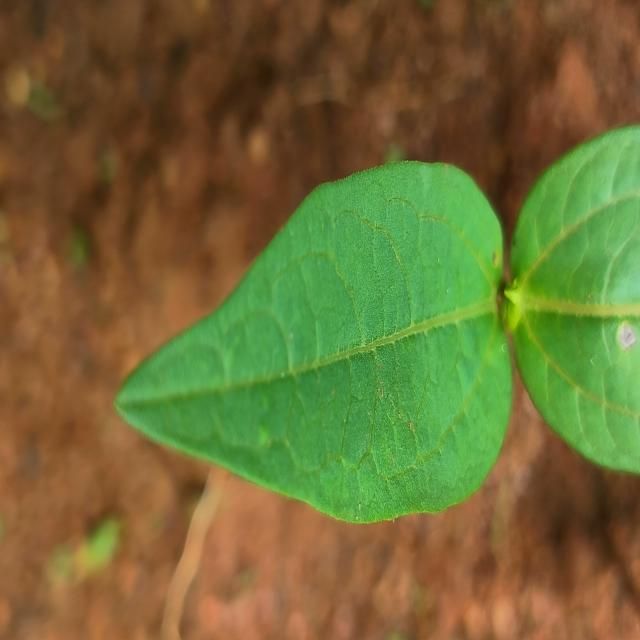Black gram_healthy: (119, 159, 511, 522), (513, 112, 640, 468)
